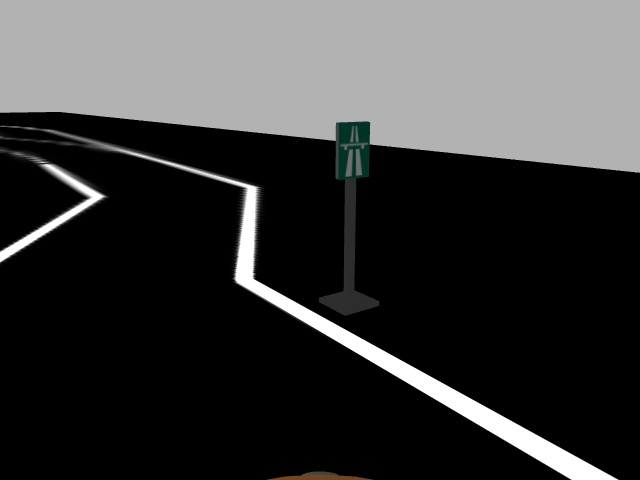enter_highway: (333, 120, 373, 180)
